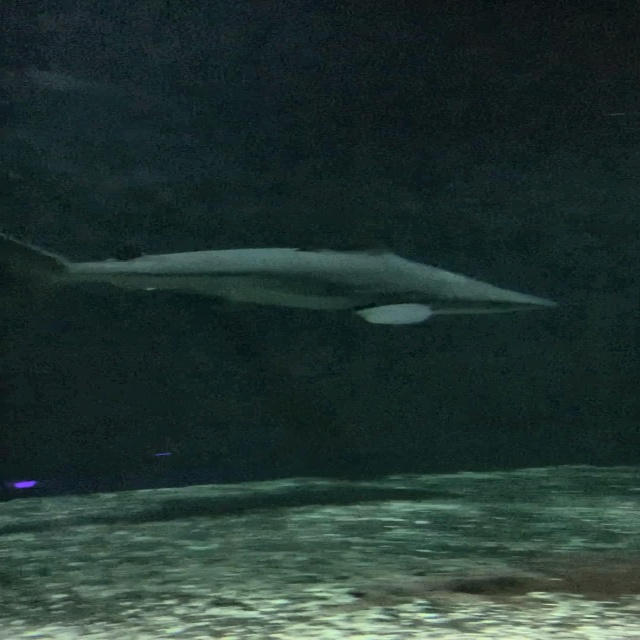shark: (11, 217, 553, 325)
